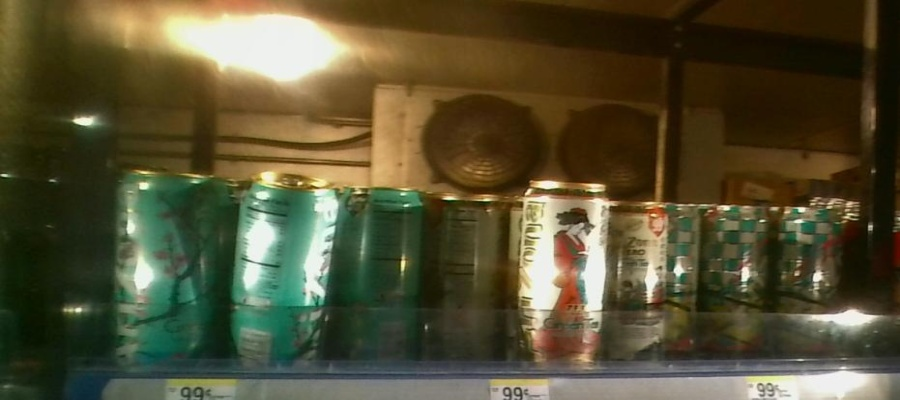bottle: (111, 163, 219, 369), (231, 170, 338, 362), (517, 171, 609, 376), (341, 176, 426, 367), (429, 176, 508, 366), (774, 198, 841, 361), (708, 196, 773, 358), (612, 195, 669, 378), (671, 199, 703, 355)
